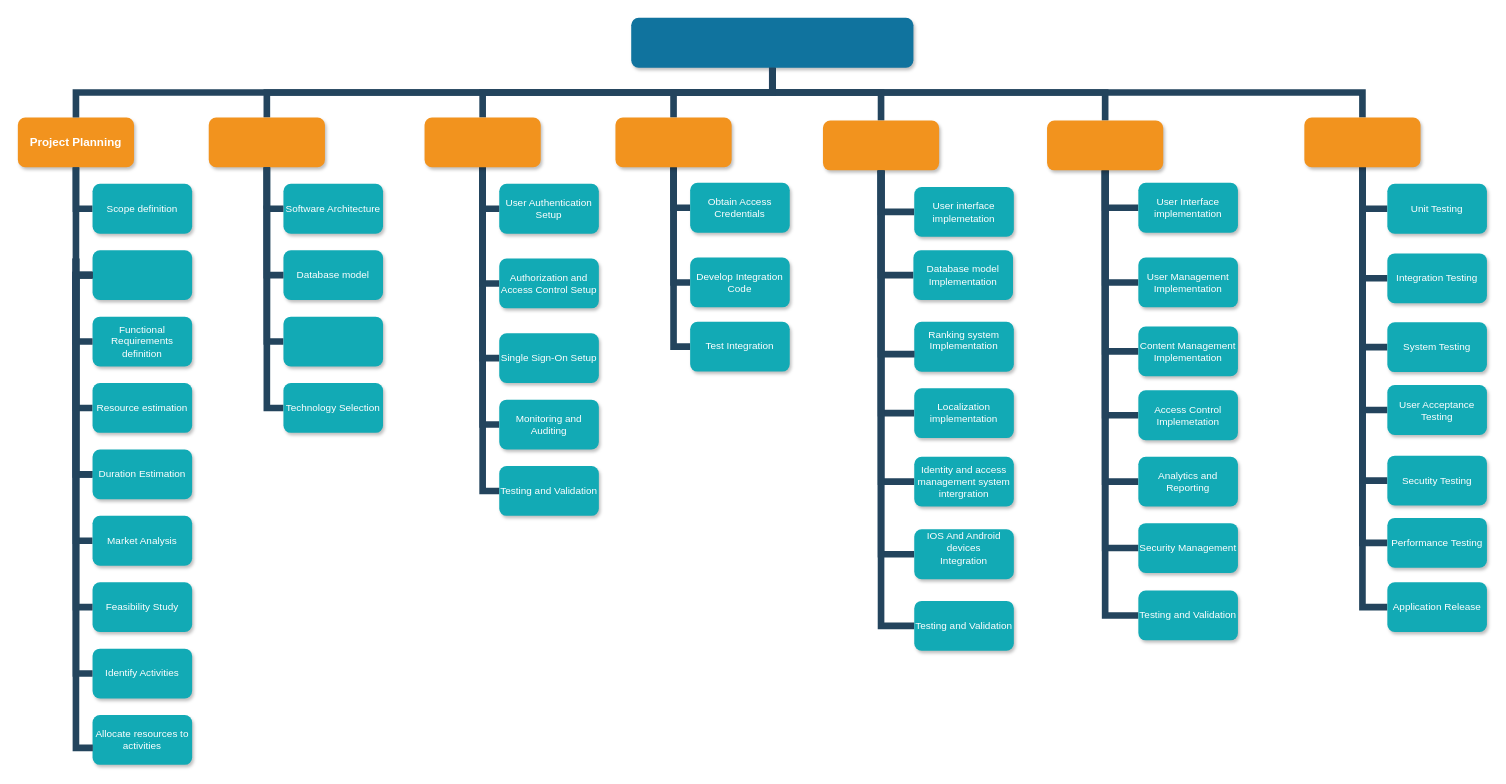
The diagram is 1506 pixels wide and 784 high, and some of its shapes have lost their labels. Each missing label, with the centre of its shape:
Application Design: (x=267, y=143)
Conducting stakeholder interviews: (x=143, y=276)
Identity and access management system: (x=483, y=143)
Mobile Application Development: (x=881, y=146)
Testing and Deployment: (x=1363, y=143)
Third party Services Integration: (x=674, y=143)
Travel Guru: (x=772, y=43)
UI/UX design: (x=334, y=342)
Web Admin Panel: (x=1105, y=146)
